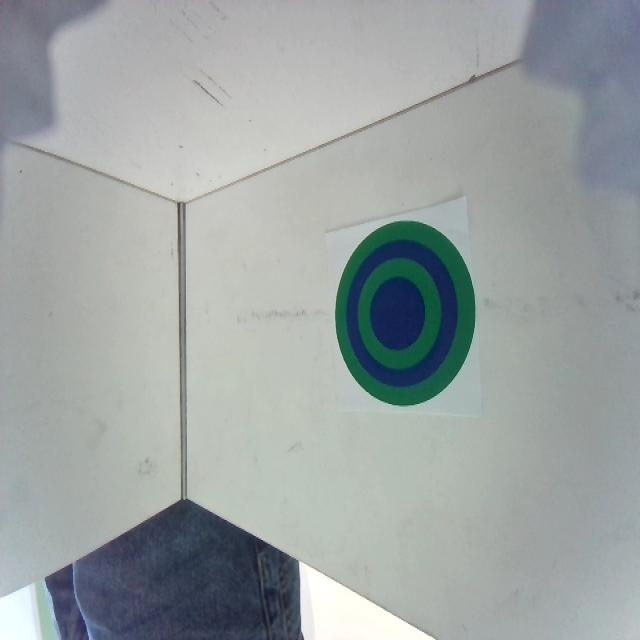cogn: (335, 219, 476, 404)
